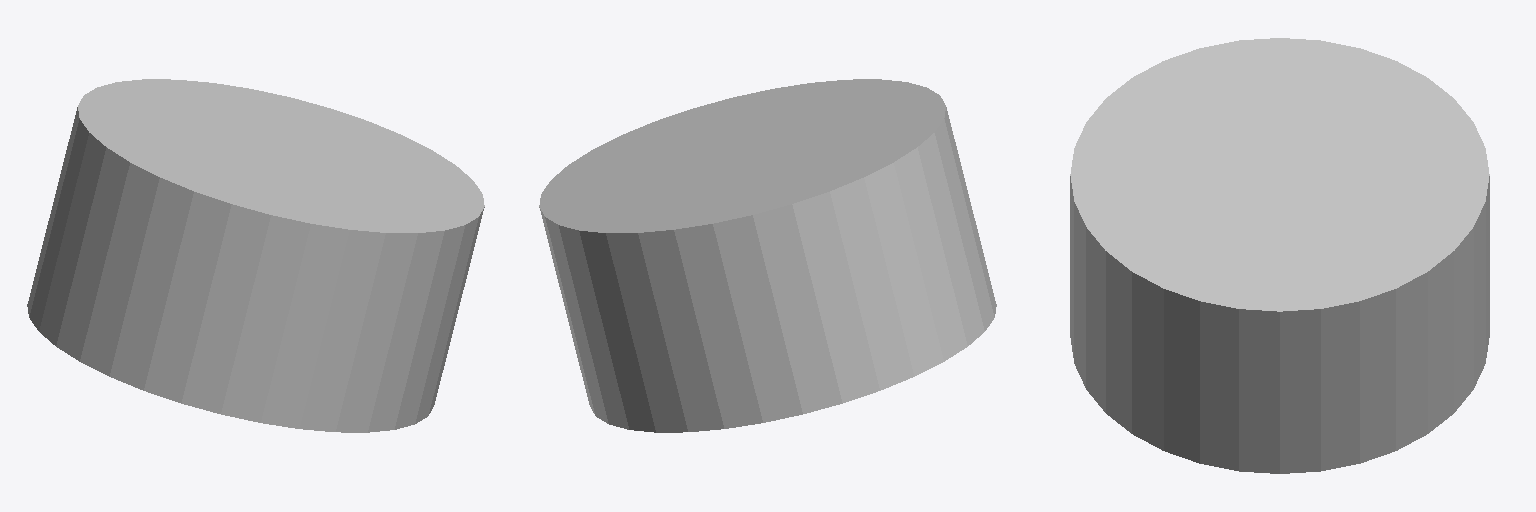
Rendered from drumsetV4_SmaolDrum_Hitbox.obj.
3 renders of one model, left to right at view 1: azimuth 30°, elevation 25°; view 2: azimuth 150°, elevation 25°; view 3: azimuth 270°, elevation 25°, orthographic.
Parts seen in each view (by area): view 1: drumsetV4_SmaolDrum_Hitbox_Cylinder.006; view 2: drumsetV4_SmaolDrum_Hitbox_Cylinder.006; view 3: drumsetV4_SmaolDrum_Hitbox_Cylinder.006.
Part boxes in pixels (x1,y1,x2,y2): drumsetV4_SmaolDrum_Hitbox_Cylinder.006: (27, 79, 484, 432); drumsetV4_SmaolDrum_Hitbox_Cylinder.006: (539, 79, 996, 432); drumsetV4_SmaolDrum_Hitbox_Cylinder.006: (1070, 38, 1489, 473).
Bounding box in the file's own units: 1.08 × 0.7501 × 0.9818.